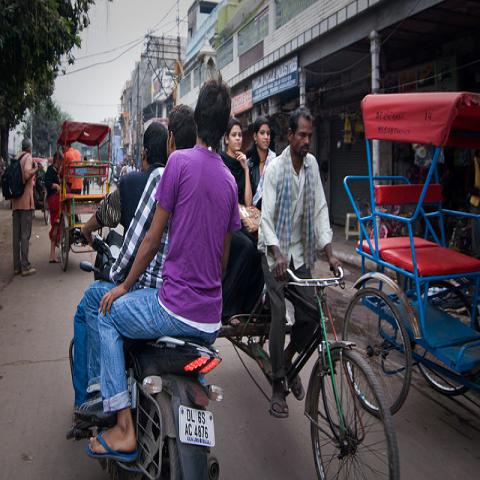motorcycle: (98, 335, 225, 473)
